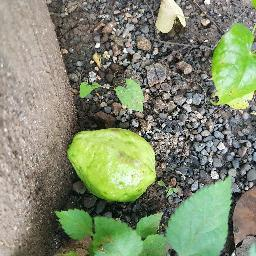Good_guava: (67, 110, 161, 206)
